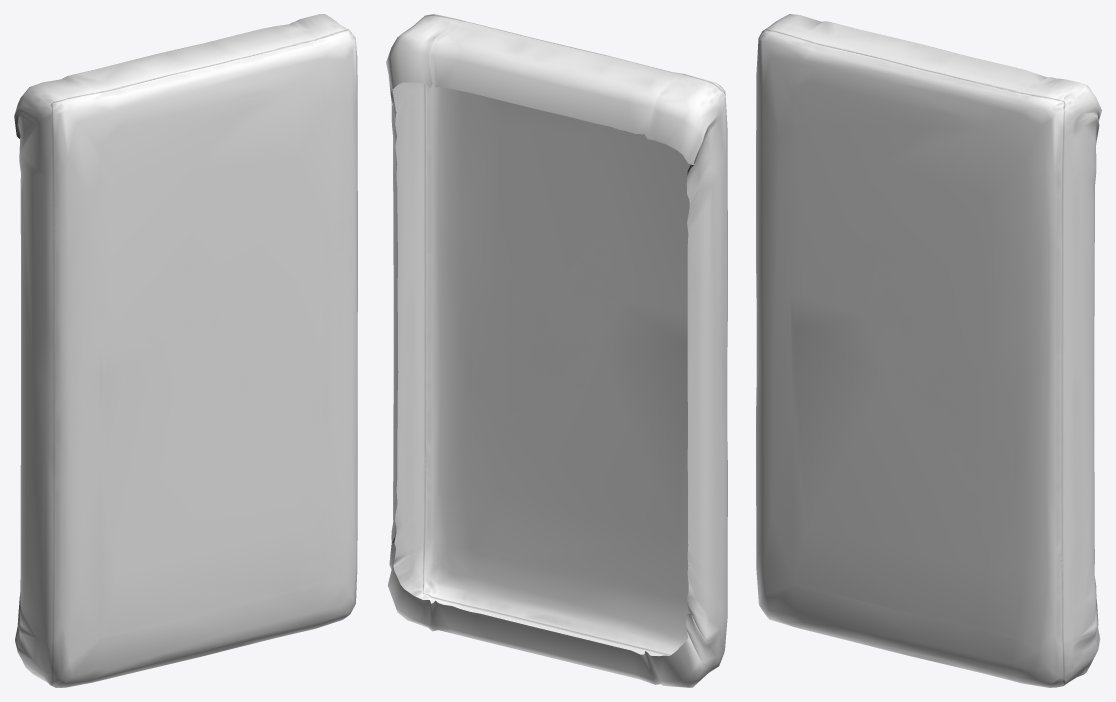
File: BedMattress_20_BedMattress_20_1.obj
3 renders of one model, left to right at view 1: azimuth 30°, elevation 25°; view 2: azimuth 150°, elevation 25°; view 3: azimuth 330°, elevation 25°, orthographic.
Visible parts, largest first — view 1: BedMattress_20; view 2: BedMattress_20; view 3: BedMattress_20.
Boxes of the visible parts, x1,y1,x2,y2 form: BedMattress_20: (14,14,357,687); BedMattress_20: (386,14,727,687); BedMattress_20: (756,14,1101,687).
Size of the model in its own units: 1.11 by 1.99 by 0.2702.
